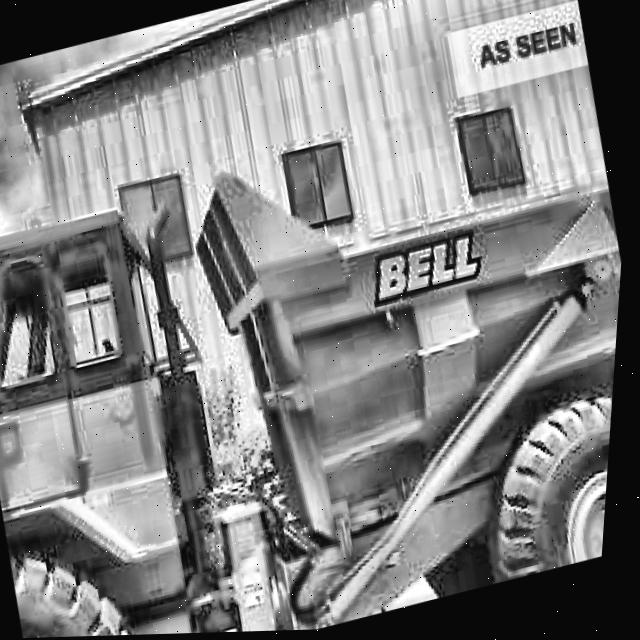dump_truck: (0, 61, 636, 640)
